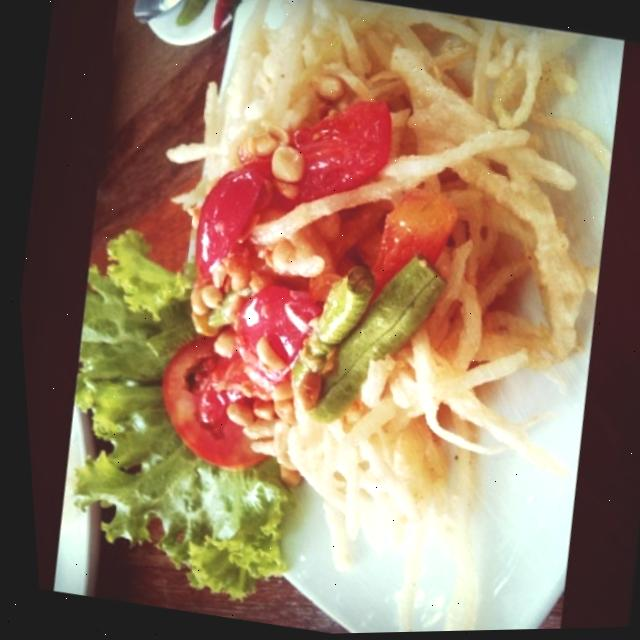蔬菜料理: (13, 0, 631, 640)
